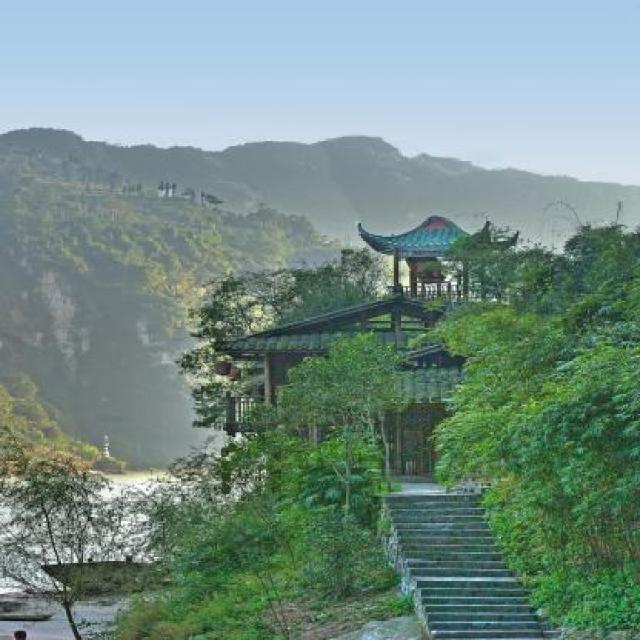stair: (380, 492, 569, 640)
